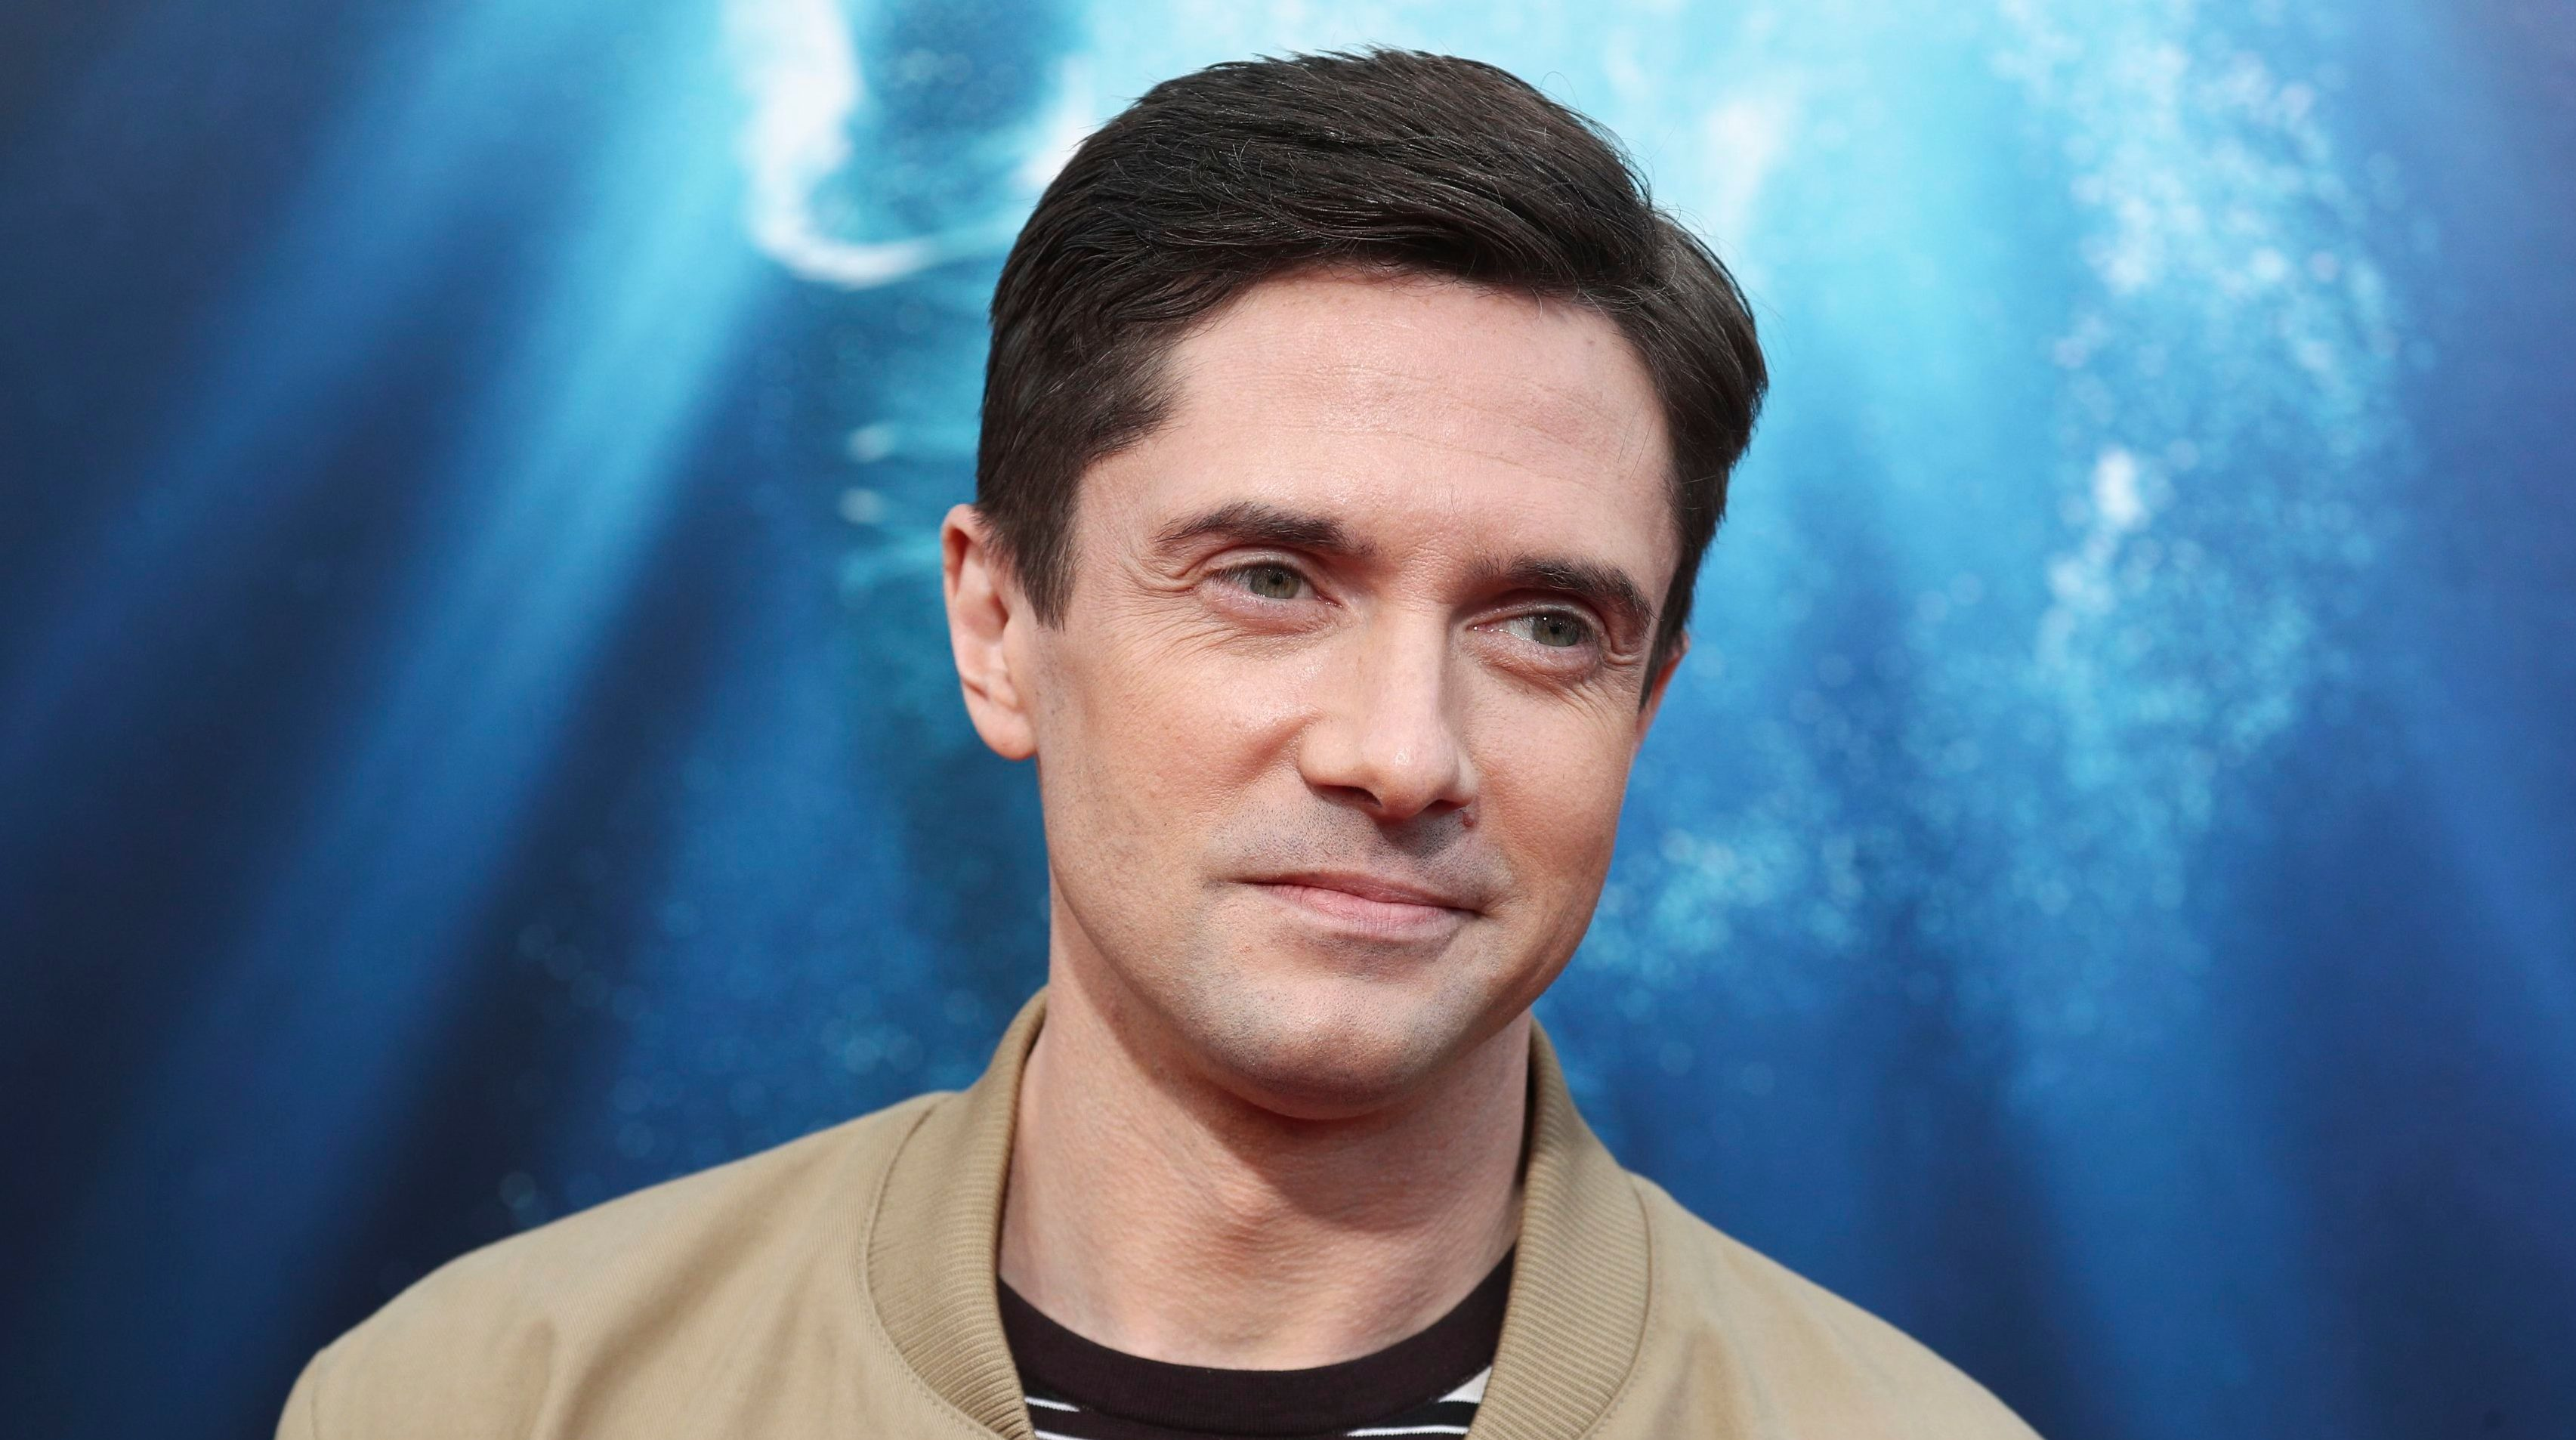bare: (1030, 711, 1648, 1103)
